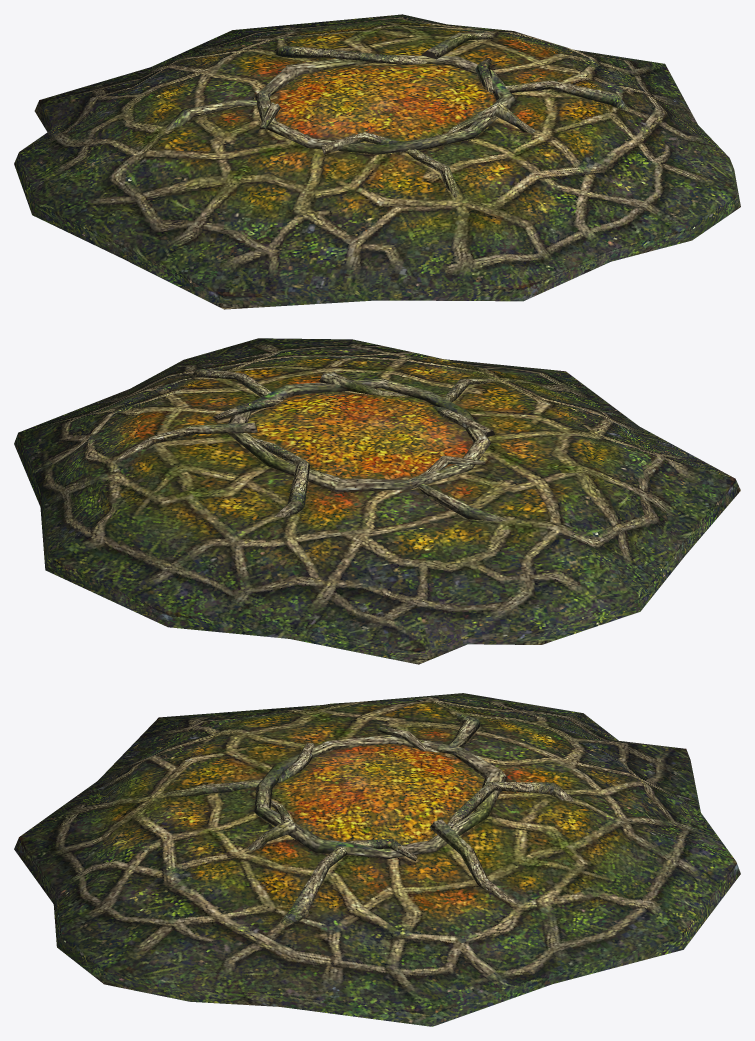
The model's file is deadmushroom_06.fbx.
3 renders of one model, top to bottom at view 1: azimuth 30°, elevation 25°; view 2: azimuth 150°, elevation 25°; view 3: azimuth 270°, elevation 25°, orthographic. The views are drawn at different scales.
Visible parts, largest first — view 1: deadmushroom_06; view 2: deadmushroom_06; view 3: deadmushroom_06.
Part boxes in pixels (<box>): deadmushroom_06: <box>14,14,740,309</box>; deadmushroom_06: <box>14,338,740,664</box>; deadmushroom_06: <box>14,693,740,1026</box>.
Bounding box in the file's own units: 9.61 × 1.16 × 9.13.
